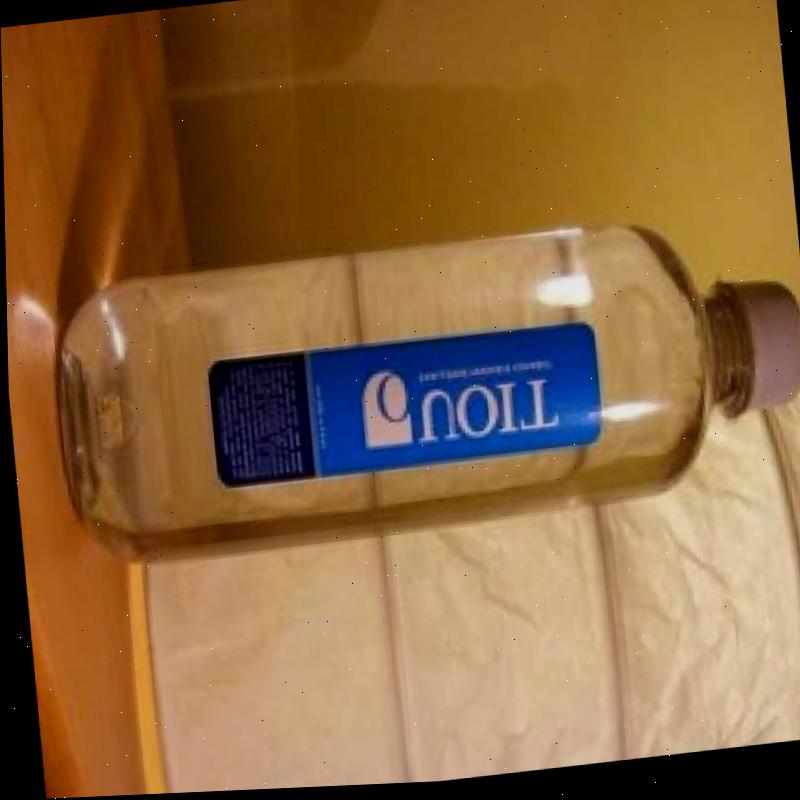botella: (46, 202, 800, 565)
